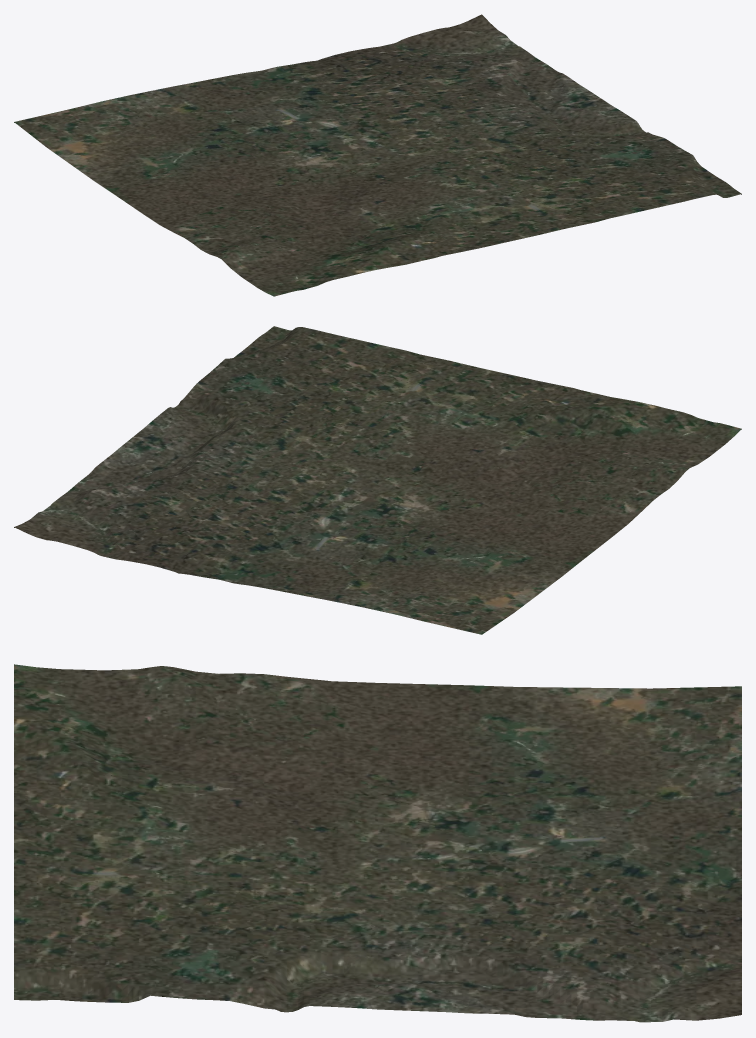
The picture shows the model from 3 angles, top to bottom: view 1: azimuth 30°, elevation 25°; view 2: azimuth 150°, elevation 25°; view 3: azimuth 270°, elevation 25°; orthographic projection. The views are drawn at different scales.
Size of the model in its own units: 500 by 34.98 by 481.
Materials: 1 (1 with a texture image).
